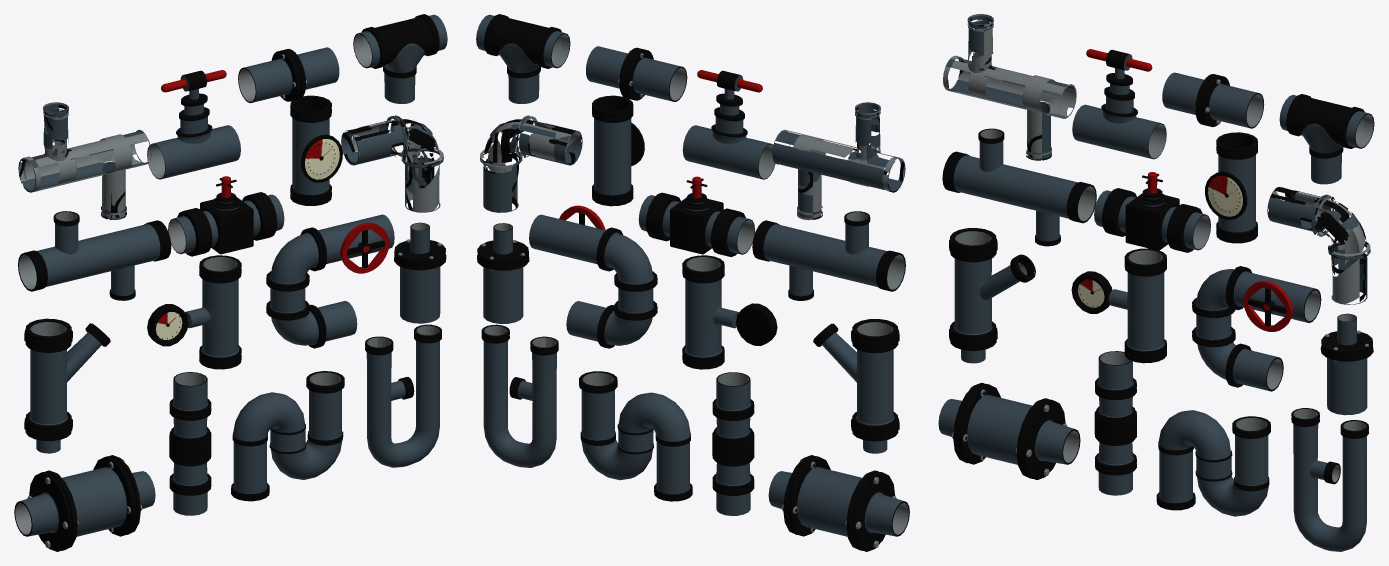
File: pipes.fbx
The picture shows the model from 3 angles, left to right: view 1: azimuth 30°, elevation 25°; view 2: azimuth 150°, elevation 25°; view 3: azimuth 330°, elevation 25°; orthographic projection.
Visible parts, largest first — view 1: Pipes15, Pipes11, Pipes13, Pipes5, Pipes16, Pipes1, Pipes9, Pipes10, Pipes6, Pipes14, Pipes2, Pipes8 (+4 smaller); view 2: Pipes15, Pipes11, Pipes13, Pipes16, Pipes5, Pipes1, Pipes9, Pipes10, Pipes6, Pipes14, Pipes2, Pipes8 (+4 smaller); view 3: Pipes15, Pipes11, Pipes13, Pipes5, Pipes16, Pipes1, Pipes9, Pipes10, Pipes6, Pipes8, Pipes2, Pipes14 (+4 smaller).
Part boxes in pixels (bbox=[...]): Pipes15: bbox=[231, 371, 344, 501]; Pipes11: bbox=[266, 214, 394, 348]; Pipes13: bbox=[14, 455, 155, 551]; Pipes5: bbox=[18, 211, 171, 300]; Pipes16: bbox=[365, 324, 441, 467]; Pipes1: bbox=[18, 102, 151, 219]; Pipes9: bbox=[24, 318, 110, 453]; Pipes10: bbox=[147, 255, 241, 369]; Pipes6: bbox=[168, 176, 284, 256]; Pipes14: bbox=[169, 372, 211, 515]; Pipes2: bbox=[147, 70, 240, 179]; Pipes8: bbox=[341, 115, 443, 212]; Pipes15: bbox=[579, 371, 692, 501]; Pipes11: bbox=[529, 205, 657, 348]; Pipes13: bbox=[768, 455, 909, 551]; Pipes16: bbox=[481, 324, 558, 467]; Pipes5: bbox=[752, 211, 905, 300]; Pipes1: bbox=[772, 102, 905, 220]; Pipes9: bbox=[813, 319, 899, 453]; Pipes10: bbox=[682, 255, 777, 369]; Pipes6: bbox=[638, 176, 754, 256]; Pipes14: bbox=[712, 372, 754, 515]; Pipes2: bbox=[682, 70, 775, 179]; Pipes8: bbox=[480, 115, 582, 212]; Pipes15: bbox=[1156, 410, 1270, 516]; Pipes11: bbox=[1192, 266, 1321, 391]; Pipes13: bbox=[938, 382, 1080, 479]; Pipes5: bbox=[942, 128, 1096, 246]; Pipes16: bbox=[1291, 408, 1368, 551]; Pipes1: bbox=[943, 14, 1076, 160]; Pipes9: bbox=[949, 228, 1035, 363]; Pipes10: bbox=[1071, 248, 1166, 363]; Pipes6: bbox=[1094, 172, 1210, 252]; Pipes8: bbox=[1267, 187, 1370, 304]; Pipes2: bbox=[1072, 49, 1166, 159]; Pipes14: bbox=[1094, 351, 1136, 495].
Bounding box in the file's own units: 1381 × 1394 × 232.
